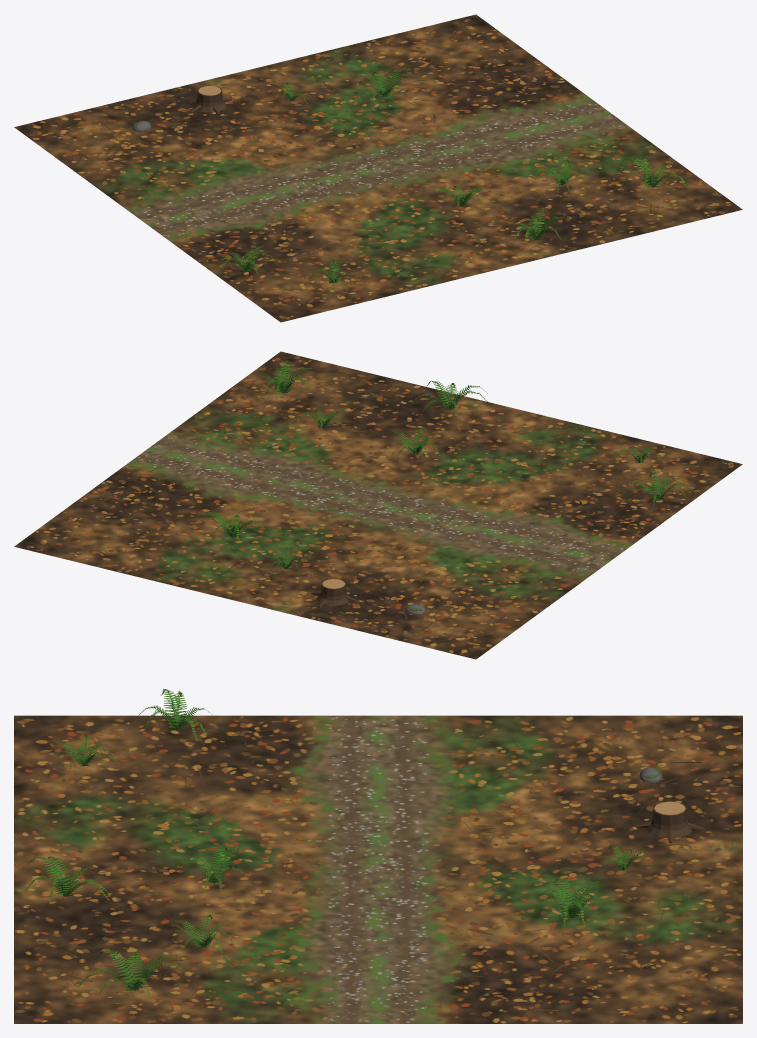
The model's file is les_cesta.glb.
3 views of the same model, one above another, from view 1: azimuth 30°, elevation 25°; view 2: azimuth 150°, elevation 25°; view 3: azimuth 270°, elevation 25° (orthographic). The views are drawn at different scales.
Visible parts, largest first — view 1: zem, parez_0, kapradi_00, kapradi_04, kapradi_02, kapradi_03; view 2: zem, parez_0, kapradi_02, kapradi_00, kapradi_03, kapradi_04, kapradi_07; view 3: zem, parez_0, kapradi_00, kapradi_02, kapradi_04, kapradi_03, kapradi_07, kapradi_05, kapradi_01.
Boxes of the visible parts, x1,y1,x2,y2 form: zem: [14, 14, 742, 322]; parez_0: [190, 85, 231, 115]; kapradi_00: [622, 156, 688, 191]; kapradi_04: [355, 68, 414, 102]; kapradi_02: [507, 209, 571, 245]; kapradi_03: [213, 245, 277, 274]; zem: [14, 351, 742, 659]; parez_0: [310, 579, 358, 607]; kapradi_02: [409, 381, 487, 414]; kapradi_00: [252, 360, 319, 399]; kapradi_03: [622, 471, 695, 504]; kapradi_04: [195, 511, 272, 540]; kapradi_07: [391, 428, 440, 458]; zem: [14, 715, 742, 1023]; parez_0: [635, 801, 704, 843]; kapradi_00: [77, 950, 189, 996]; kapradi_02: [25, 856, 109, 901]; kapradi_04: [533, 877, 613, 927]; kapradi_03: [137, 689, 209, 739]; kapradi_07: [173, 845, 248, 892]; kapradi_05: [167, 914, 236, 952]; kapradi_01: [50, 734, 119, 769].
Size of the model in its own units: 15.09 by 0.7728 by 14.8.
3 materials, 3 textured.
